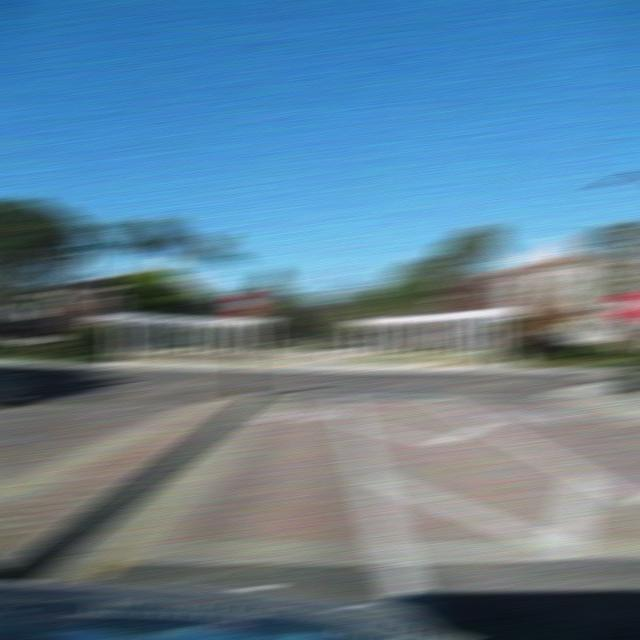stop: (608, 288, 640, 319), (227, 290, 260, 318)
